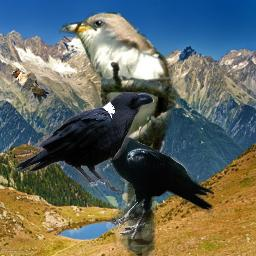Crow: (74, 117, 214, 239), (14, 92, 155, 194)
Cuckoo: (59, 12, 177, 256)
Swallow: (11, 68, 50, 102)
